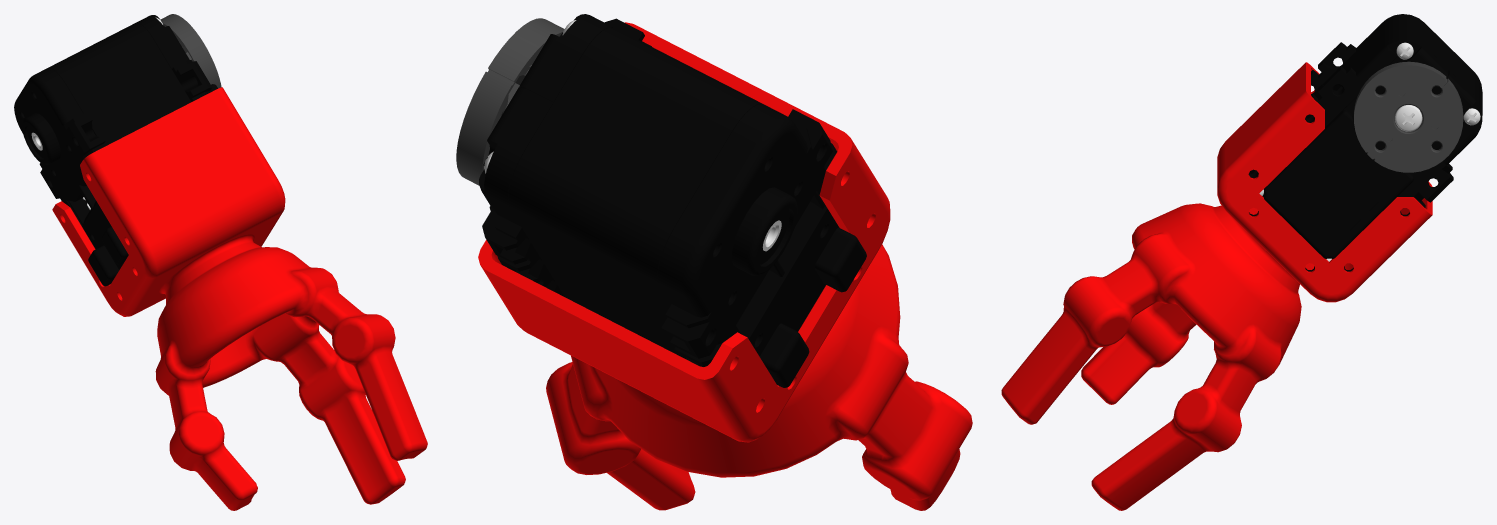
File: hand-left.obj
3 renders of one model, left to right at view 1: azimuth 30°, elevation 25°; view 2: azimuth 150°, elevation 25°; view 3: azimuth 270°, elevation 25°, orthographic. The views are drawn at different scales.
Visible parts, largest first — view 1: Solid1, ASSY_DUMMY___, DC04_B01_HORN2_DUMMY; view 2: ASSY_DUMMY___, Solid1, DC04_B01_HORN2_DUMMY; view 3: Solid1, ASSY_DUMMY___, DC04_B01_HORN2_DUMMY, BHS_M2_6X8.
Boxes of the visible parts, bbox=[...] form: Solid1: bbox=[52, 87, 427, 510]; ASSY_DUMMY___: bbox=[14, 15, 217, 286]; DC04_B01_HORN2_DUMMY: bbox=[160, 14, 221, 88]; ASSY_DUMMY___: bbox=[479, 14, 866, 387]; Solid1: bbox=[478, 22, 972, 510]; DC04_B01_HORN2_DUMMY: bbox=[456, 18, 563, 185]; Solid1: bbox=[1001, 62, 1432, 510]; ASSY_DUMMY___: bbox=[1248, 14, 1482, 271]; DC04_B01_HORN2_DUMMY: bbox=[1354, 61, 1463, 172]; BHS_M2_6X8: bbox=[1395, 105, 1422, 131].
Size of the model in its own units: 2.26 by 3.72 by 3.8.
